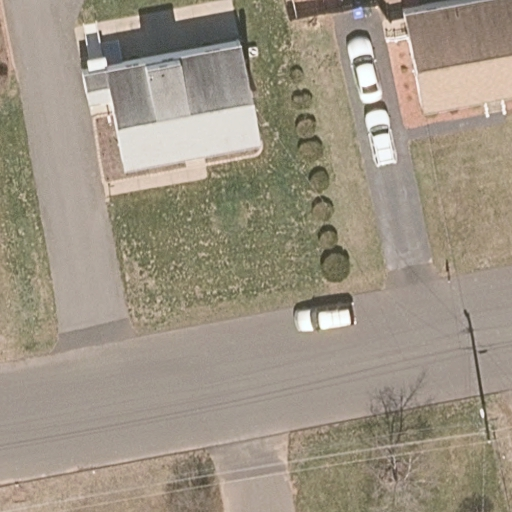DT: (470, 406, 500, 447)
